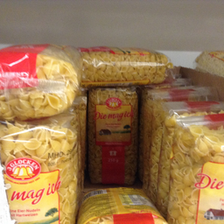pasta: (1, 119, 81, 224), (166, 111, 223, 224), (88, 87, 140, 186), (78, 182, 169, 224), (77, 46, 172, 85)
